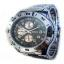watch: (5, 9, 57, 55)
